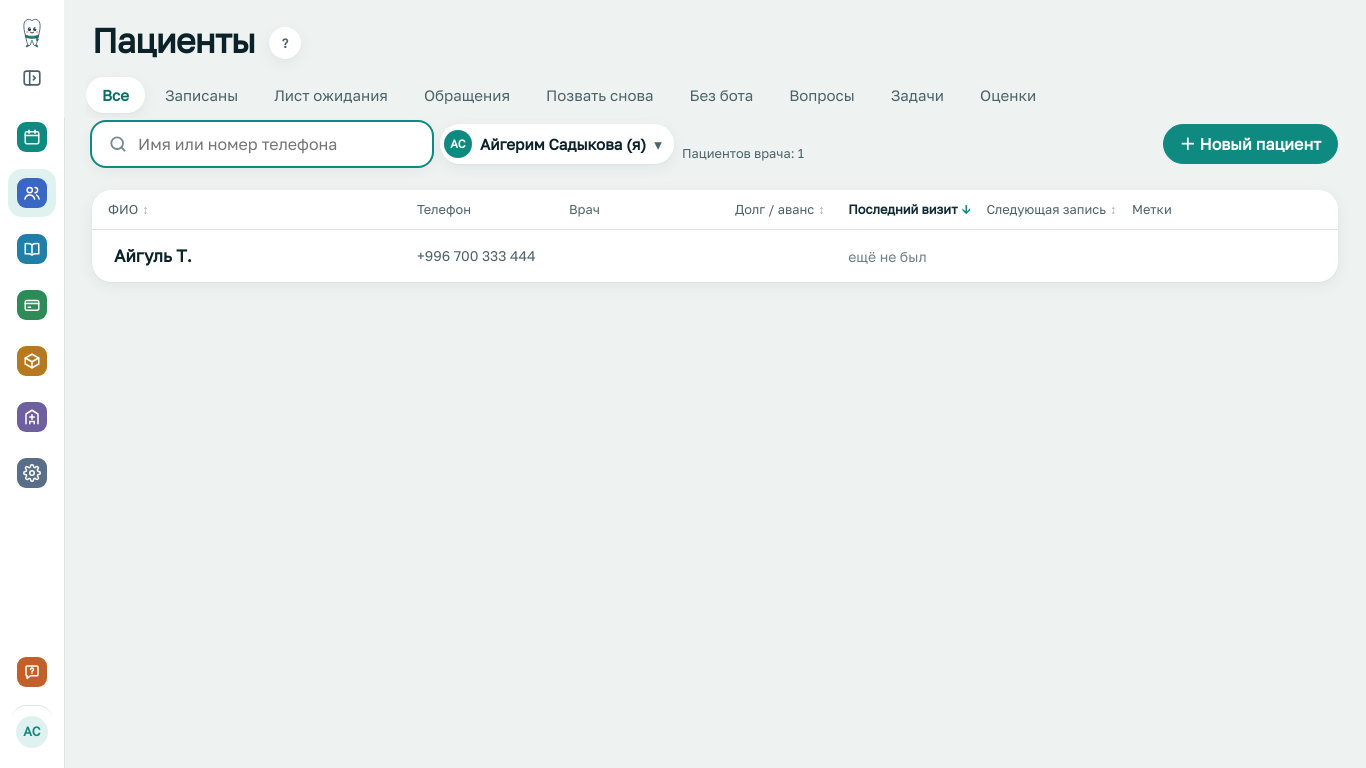
it: карточка пациента: «＋ Задача» с этим пациентом, «Завтра 10:00» — срок по Бишкеку; блок «Задачи»
Click the button "Айгуль Т.": (153, 256) [114, 243, 192, 269]
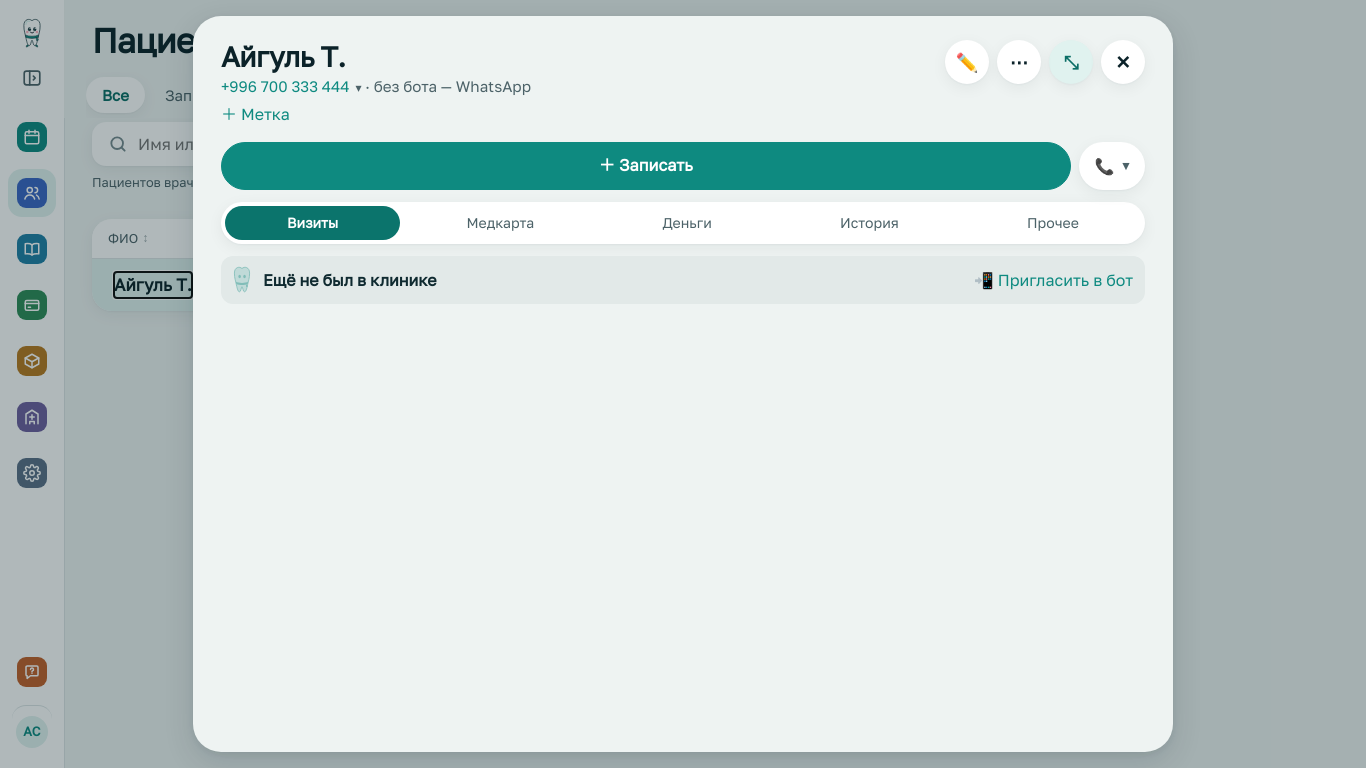
Click the button named "Ещё действия": (1019, 62) [997, 40, 1041, 84]
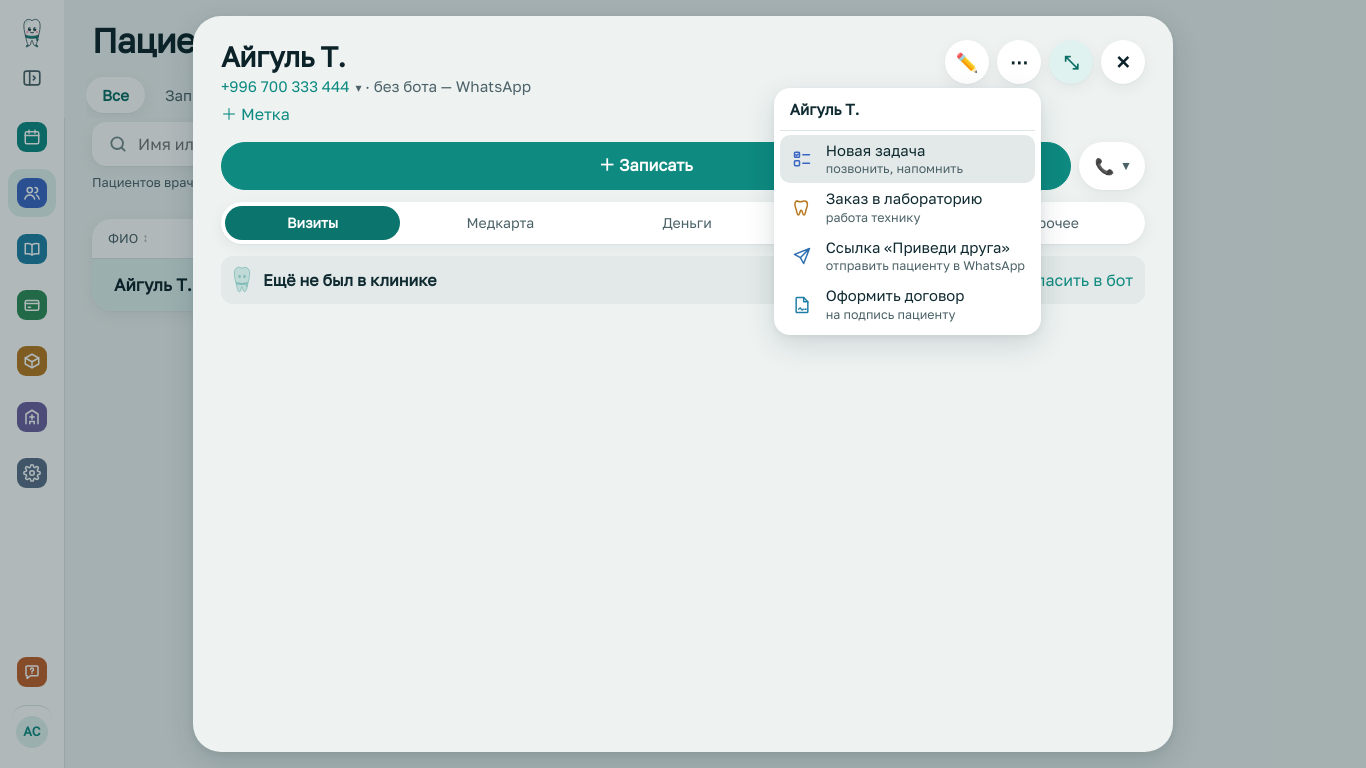
Click the menu item "Новая задача позвонить, напомнить": (907, 159) [780, 135, 1035, 183]
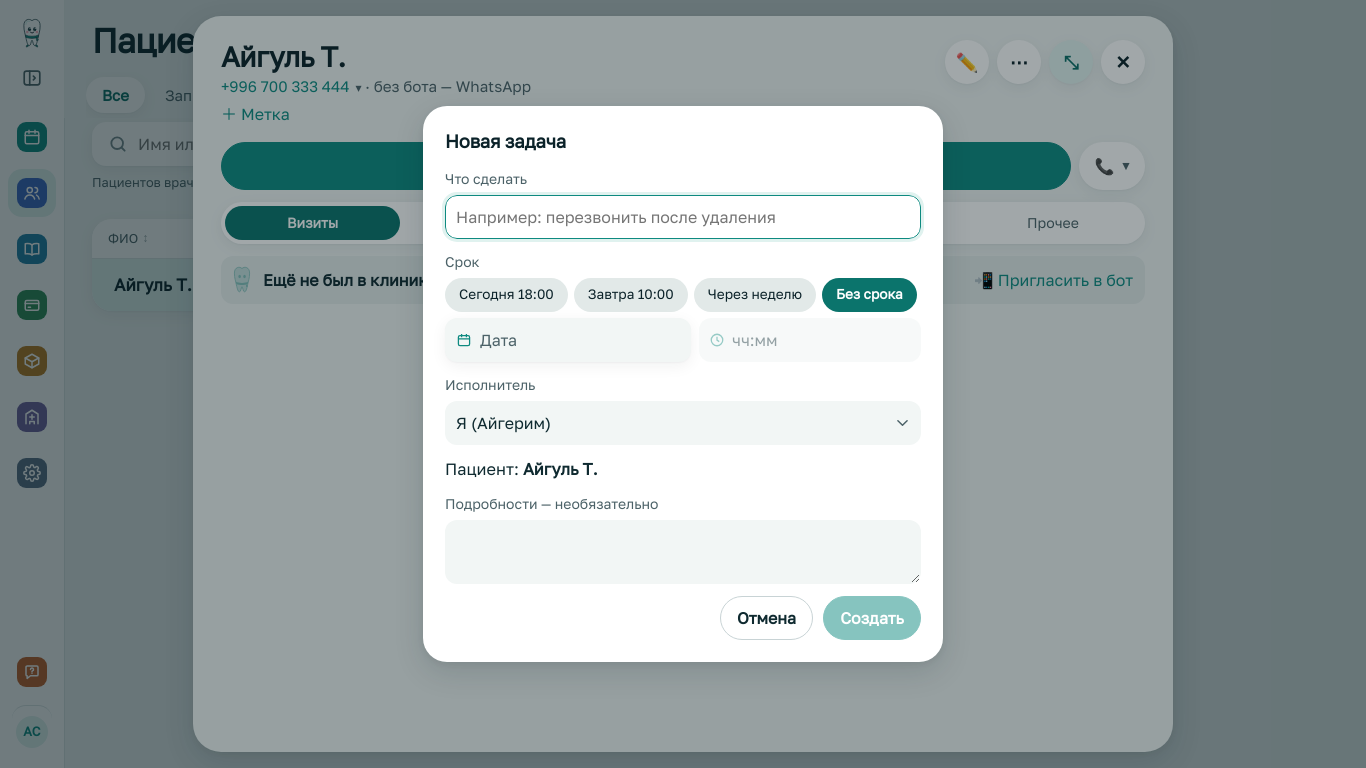
Expected: the dialog "Новая задача" shows "Пациент: Айгуль Т.", [423, 106, 943, 662]
In the field labelled "Что сделать": (683, 217) [445, 195, 921, 239], type "Перезвонить после удаления"
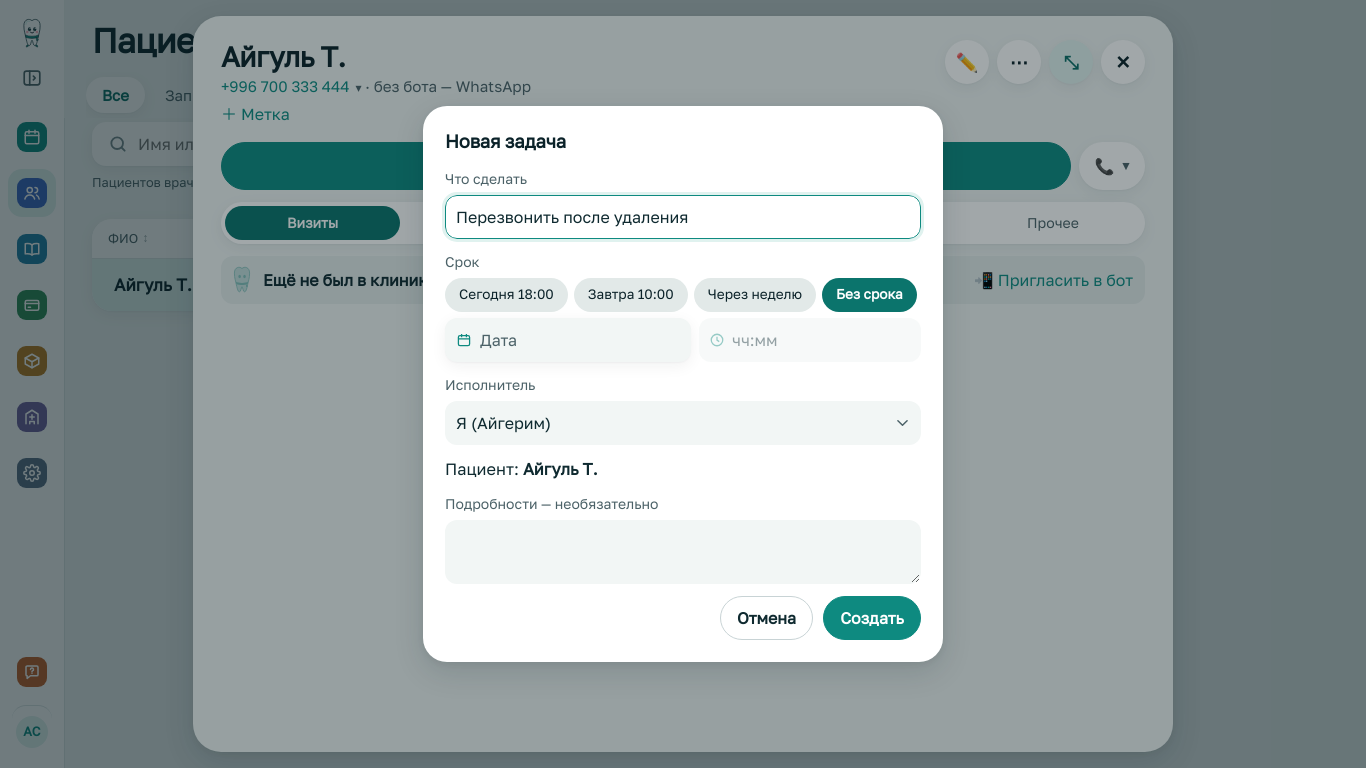
Click the button "Завтра 10:00": (631, 295) [574, 278, 688, 312]
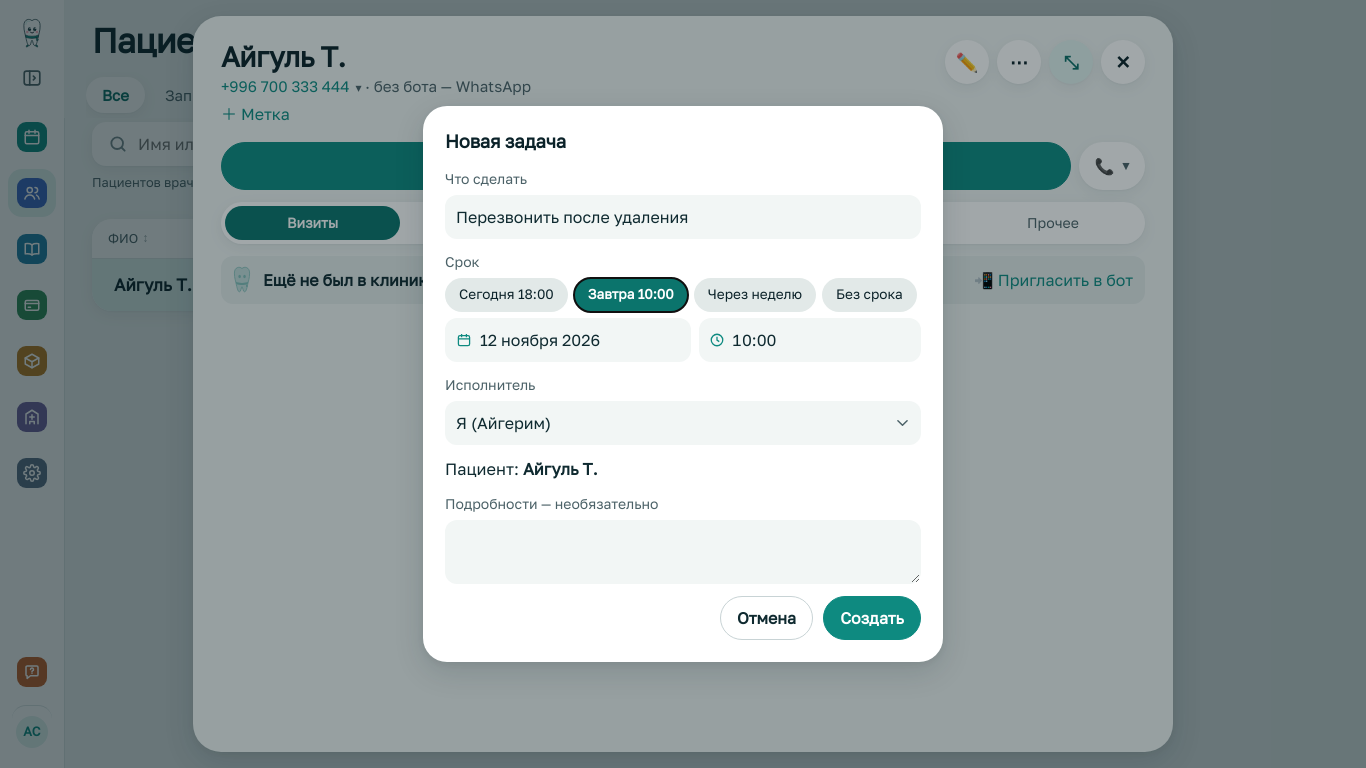
Click the button "Создать": (872, 618) [823, 596, 921, 640]
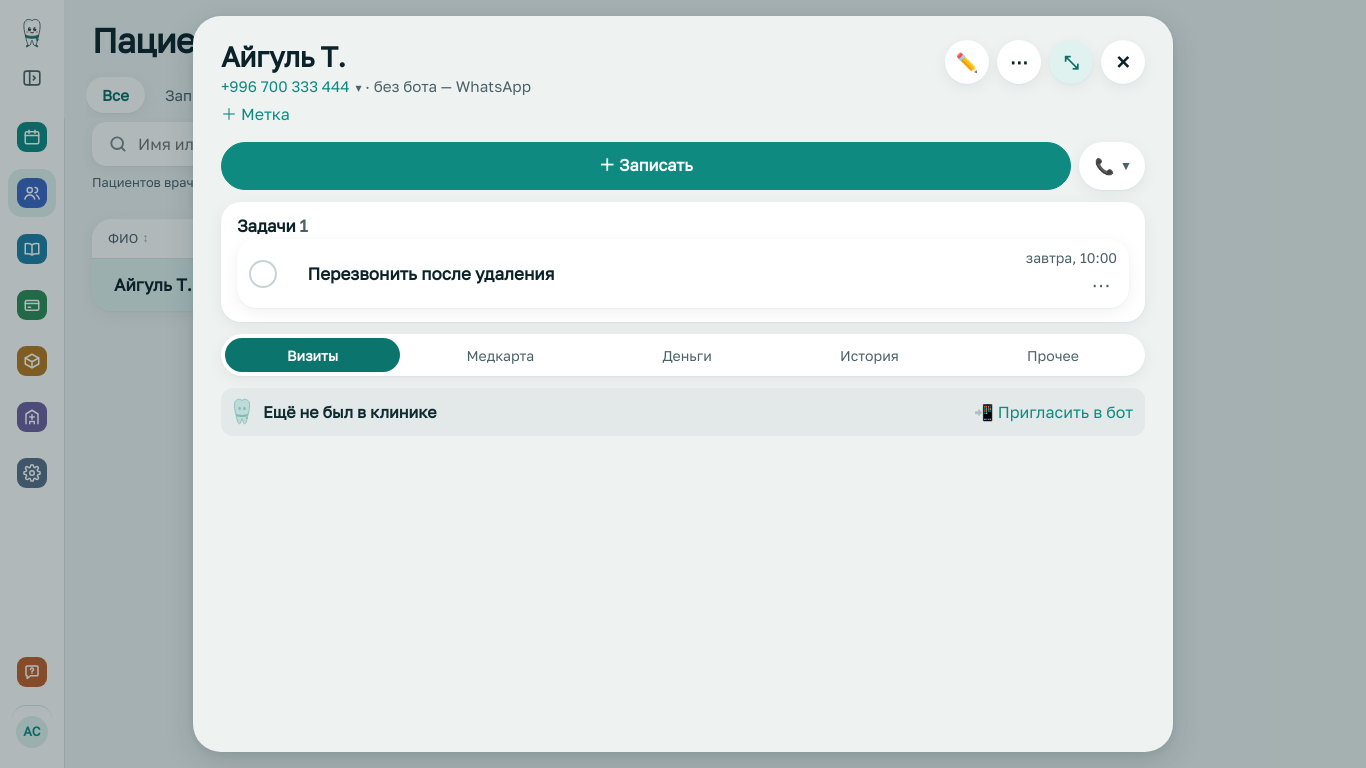
Expected: the dialog is gone
Expected: the text "Перезвонить после удаления" is shown, [307, 263, 554, 284]
Expected: the element named "Задачи пациента" shows "Задачи 1", [221, 202, 1145, 322]
